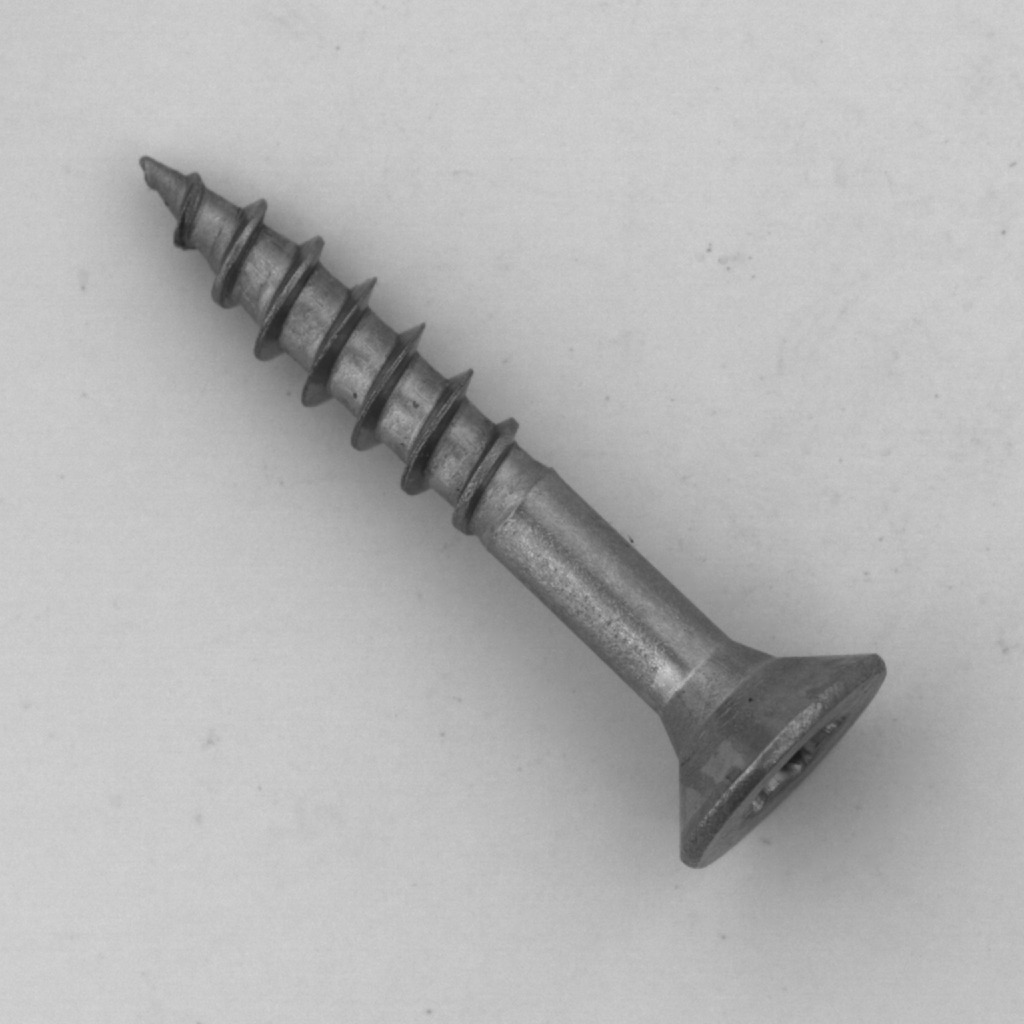good: (122, 130, 911, 890)
